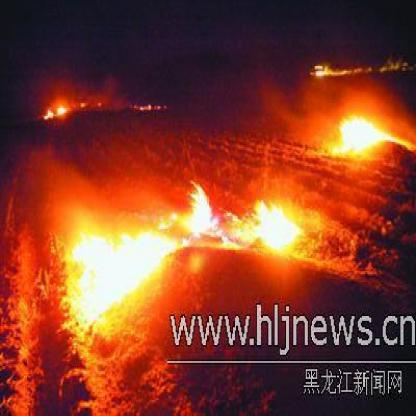fire: (54, 193, 321, 310), (330, 100, 413, 155), (37, 90, 165, 123)
